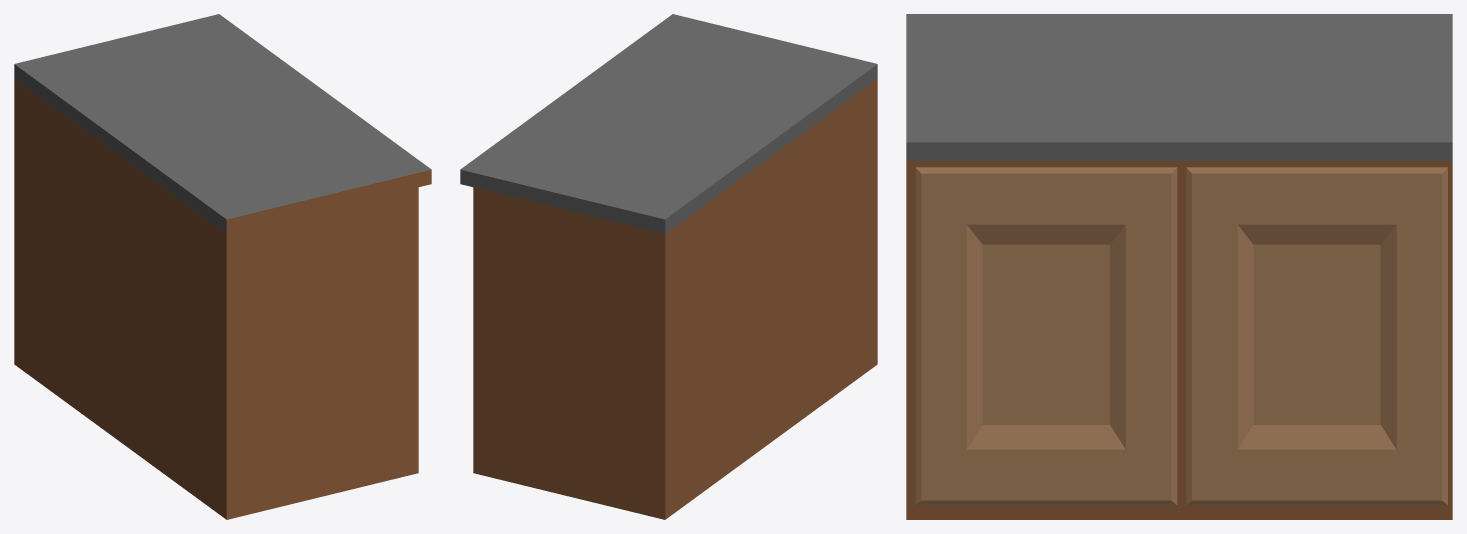
Rendered from Counter_Kitchen2.fbx.
3 renders of one model, left to right at view 1: azimuth 30°, elevation 25°; view 2: azimuth 150°, elevation 25°; view 3: azimuth 270°, elevation 25°, orthographic. The views are drawn at different scales.
Parts seen in each view (by area): view 1: Cube; view 2: Cube; view 3: Cube.
Boxes of the visible parts, left/top/right/bottom form: Cube: left=14, top=14, right=431, bottom=519; Cube: left=460, top=14, right=877, bottom=519; Cube: left=906, top=14, right=1452, bottom=519.
Bounding box in the file's own units: 64.14 × 89.85 × 115.
